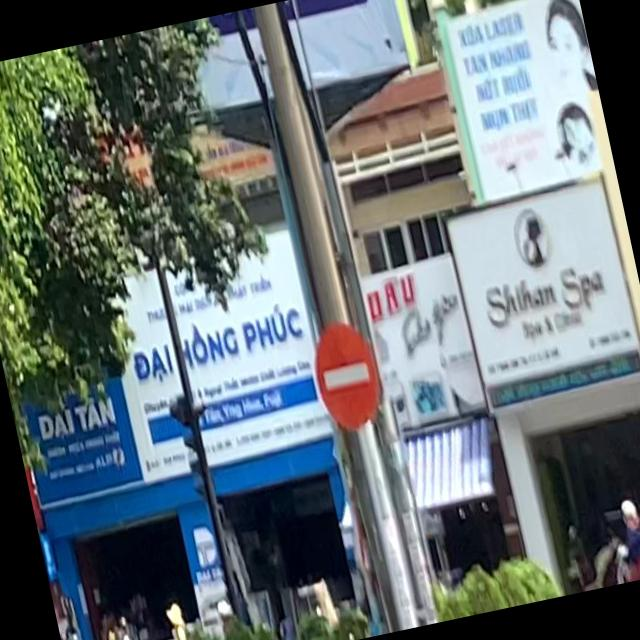P-102: (306, 318, 388, 433)
